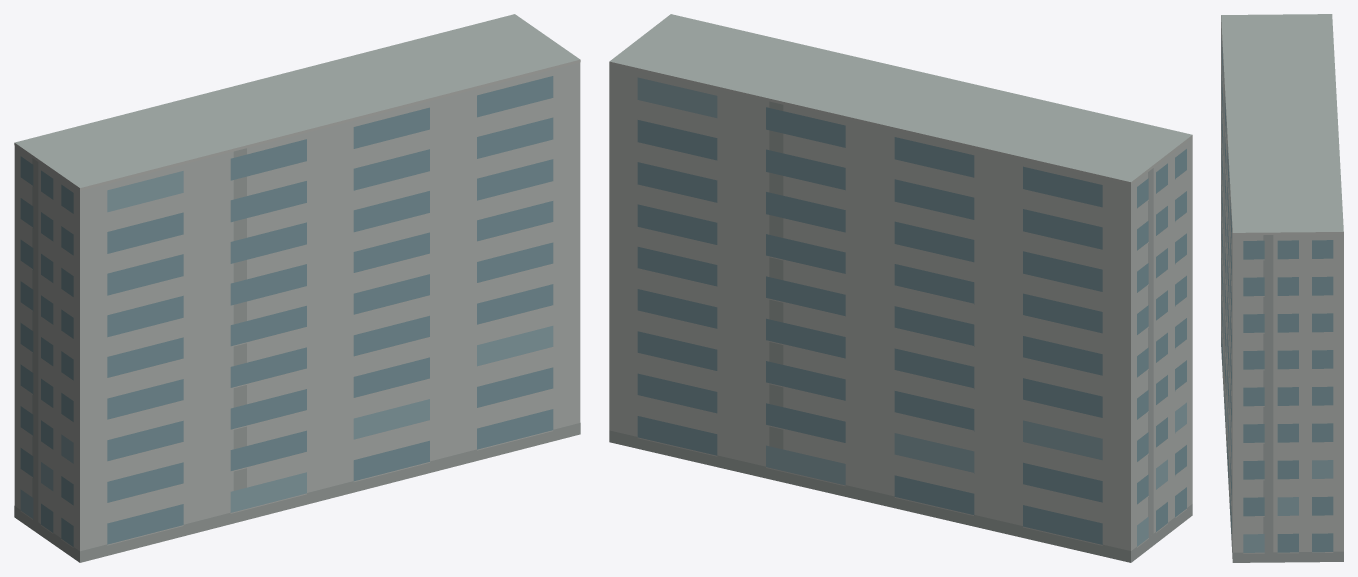
File: residential-a70cc915-2263-4d3f-a6d2-ae06737705f5.glb
The picture shows the model from 3 angles, left to right: view 1: azimuth 30°, elevation 25°; view 2: azimuth 150°, elevation 25°; view 3: azimuth 270°, elevation 25°; orthographic projection. The views are drawn at different scales.
Parts seen in each view (by area): view 1: residential-a70cc915-2263-4d3f-a6d2-ae06737705f5.tmp; view 2: residential-a70cc915-2263-4d3f-a6d2-ae06737705f5.tmp; view 3: residential-a70cc915-2263-4d3f-a6d2-ae06737705f5.tmp.
Part boxes in pixels (left/top/right/bottom): residential-a70cc915-2263-4d3f-a6d2-ae06737705f5.tmp: left=14, top=14, right=580, bottom=562; residential-a70cc915-2263-4d3f-a6d2-ae06737705f5.tmp: left=609, top=14, right=1192, bottom=562; residential-a70cc915-2263-4d3f-a6d2-ae06737705f5.tmp: left=1221, top=14, right=1343, bottom=562.
Bounding box in the file's own units: 45.54 × 32 × 10.8.
